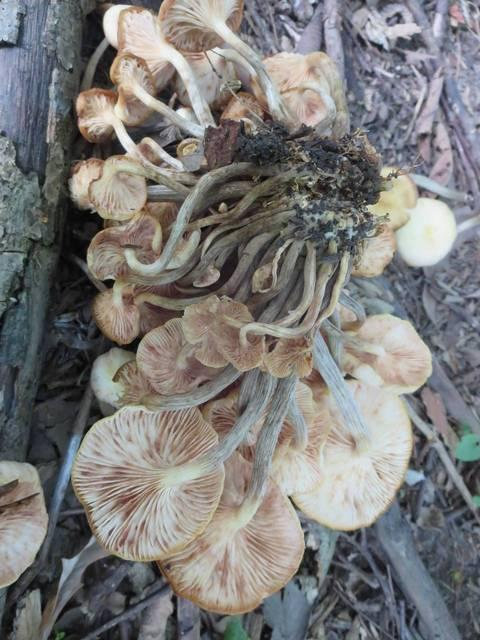Edible Mushroom: (66, 0, 447, 616)
